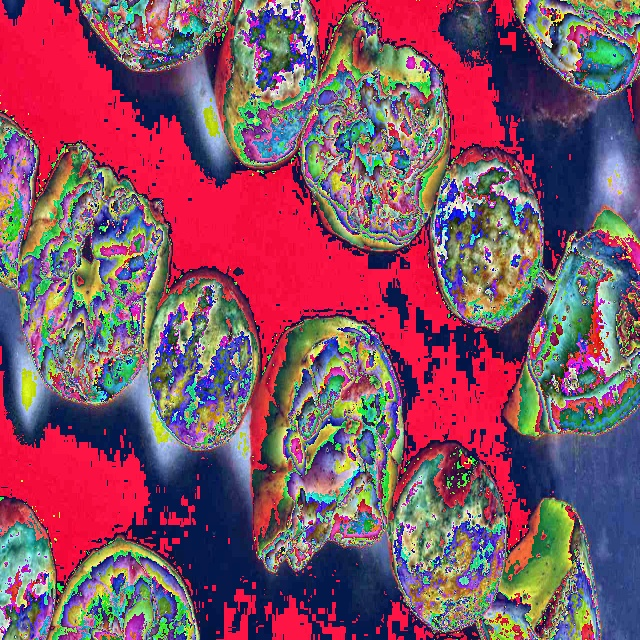background: (0, 112, 601, 639), (79, 0, 544, 332), (138, 204, 639, 436), (0, 141, 200, 639), (128, 0, 639, 100)
